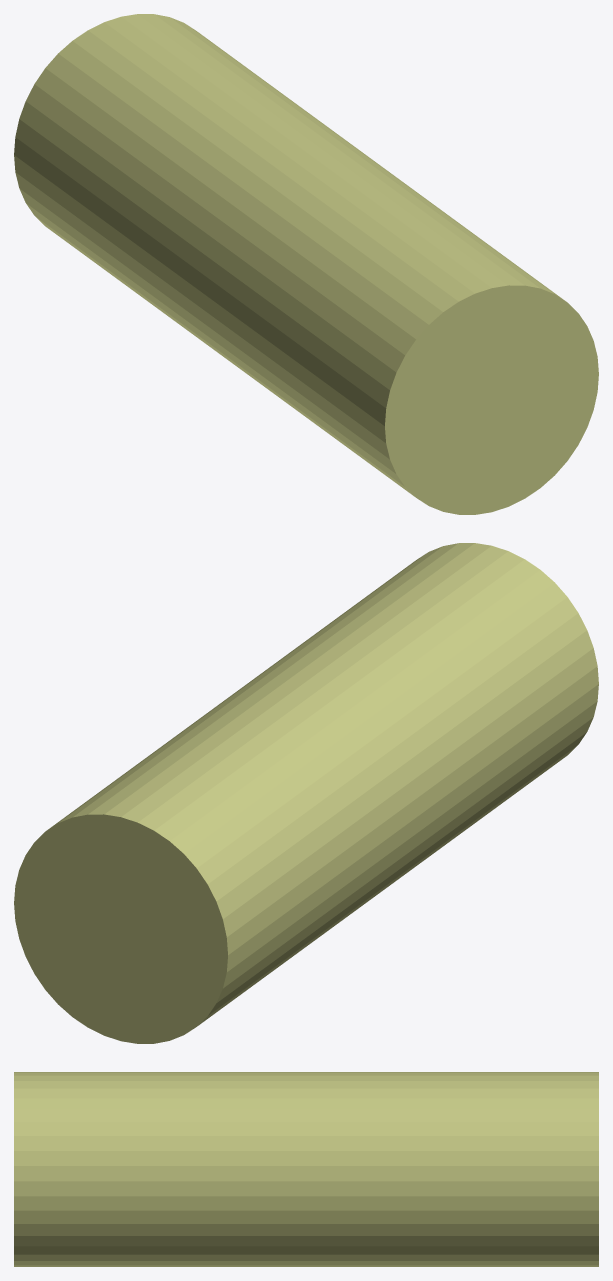
File: case-04_lib00011.glb
The picture shows the model from 3 angles, top to bottom: view 1: azimuth 30°, elevation 25°; view 2: azimuth 150°, elevation 25°; view 3: azimuth 270°, elevation 25°; orthographic projection. The views are drawn at different scales.
Parts seen in each view (by area): view 1: lib00011; view 2: lib00011; view 3: lib00011.
Part boxes in pixels (x1,y1,x2,y2): lib00011: (14,14,598,514); lib00011: (14,543,598,1043); lib00011: (14,1072,598,1266).
Bounding box in the file's own units: 26 × 26 × 78.
